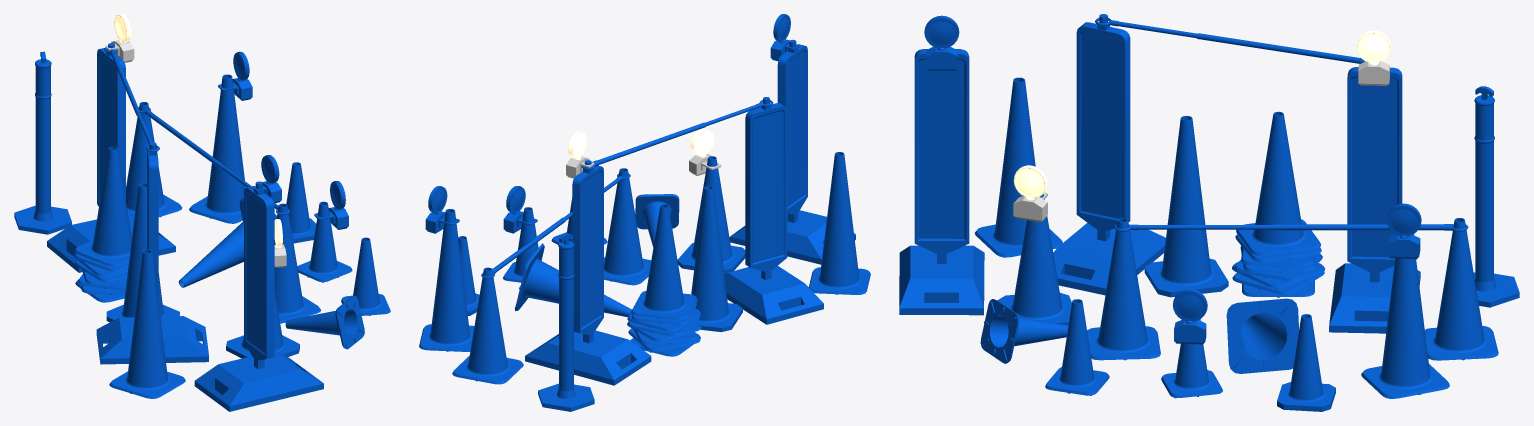
Rendered from Traffic_Cones.fbx.
3 views of the same model, side by side, from view 1: azimuth 30°, elevation 25°; view 2: azimuth 150°, elevation 25°; view 3: azimuth 270°, elevation 25° (orthographic). The views are drawn at different scales.
Parts seen in each view (by area): view 1: Vertical_Panel_1.002, Vertical_Panel_1.001, Vertical_Panel_1.003, Traffic_Cone_3_2.003, Traffic_Cone_3_2.001, Bollard_1.001, Traffic_Cone_2_2.011, Traffic_Cone_2_2.002, Traffic_Cone_3_1.001, Traffic_Cone_2_2.003, Traffic_Cone_1_2.002, Traffic_Cone_1_2.004 (+11 smaller); view 2: Vertical_Panel_1.003, Vertical_Panel_1.001, Vertical_Panel_1.002, Traffic_Cone_3_2.003, Traffic_Cone_3_2.001, Traffic_Cone_3_1.001, Traffic_Cone_2_2.011, Traffic_Cone_2_2.003, Bollard_1.001, Traffic_Cone_2_2.002, Traffic_Cone_2_2.012, Traffic_Cone_2_1.001 (+12 smaller); view 3: Vertical_Panel_1.002, Vertical_Panel_1.003, Vertical_Panel_1.001, Traffic_Cone_3_1.001, Traffic_Cone_3_2.001, Traffic_Cone_2_2.002, Traffic_Cone_2_2.003, Traffic_Cone_2_2.011, Traffic_Cone_2_2.012, Bollard_1.001, Traffic_Cone_3_2.003, Traffic_Cone_2_1.001 (+17 smaller).
Part boxes in pixels (x1,y1,x2,y2): Vertical_Panel_1.002: [194, 181, 323, 411]; Vertical_Panel_1.001: [47, 43, 175, 272]; Vertical_Panel_1.003: [96, 142, 208, 364]; Traffic_Cone_3_2.003: [109, 249, 185, 398]; Traffic_Cone_3_2.001: [189, 74, 245, 223]; Bollard_1.001: [14, 51, 71, 234]; Traffic_Cone_2_2.011: [74, 146, 131, 267]; Traffic_Cone_2_2.002: [274, 203, 320, 323]; Traffic_Cone_3_1.001: [106, 183, 179, 321]; Traffic_Cone_2_2.003: [126, 102, 182, 217]; Traffic_Cone_1_2.002: [285, 295, 364, 349]; Traffic_Cone_1_2.004: [297, 201, 352, 282]; Vertical_Panel_1.003: [724, 97, 823, 324]; Vertical_Panel_1.001: [525, 160, 651, 385]; Vertical_Panel_1.002: [729, 39, 855, 264]; Traffic_Cone_3_2.003: [809, 152, 870, 294]; Traffic_Cone_3_2.001: [419, 209, 474, 351]; Traffic_Cone_3_1.001: [691, 186, 742, 332]; Traffic_Cone_2_2.011: [631, 204, 697, 319]; Traffic_Cone_2_2.003: [452, 267, 523, 384]; Bollard_1.001: [538, 233, 594, 411]; Traffic_Cone_2_2.002: [604, 168, 651, 285]; Traffic_Cone_2_2.012: [514, 243, 631, 317]; Traffic_Cone_2_1.001: [677, 156, 745, 273]; Vertical_Panel_1.002: [899, 49, 984, 315]; Vertical_Panel_1.003: [1053, 14, 1165, 295]; Vertical_Panel_1.001: [1329, 67, 1420, 333]; Traffic_Cone_3_1.001: [1144, 116, 1228, 297]; Traffic_Cone_3_2.001: [1361, 258, 1449, 398]; Traffic_Cone_2_2.002: [1087, 218, 1160, 360]; Traffic_Cone_2_2.003: [1425, 218, 1498, 360]; Traffic_Cone_2_2.011: [1236, 111, 1320, 255]; Traffic_Cone_2_2.012: [1226, 298, 1298, 373]; Bollard_1.001: [1473, 86, 1519, 307]; Traffic_Cone_3_2.003: [975, 77, 1062, 257]; Traffic_Cone_2_1.001: [997, 194, 1071, 325].
Bounding box in the file's own units: 238 × 165 × 329.
